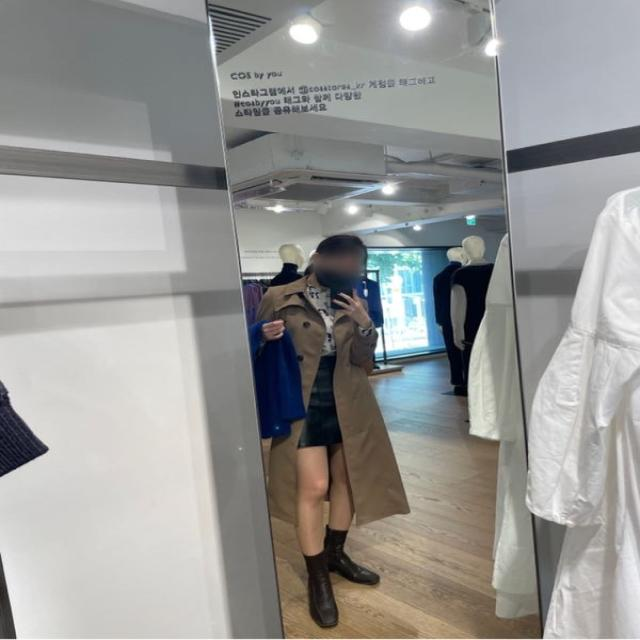coat: (255, 271, 417, 527)
skirt: (296, 348, 343, 449)
